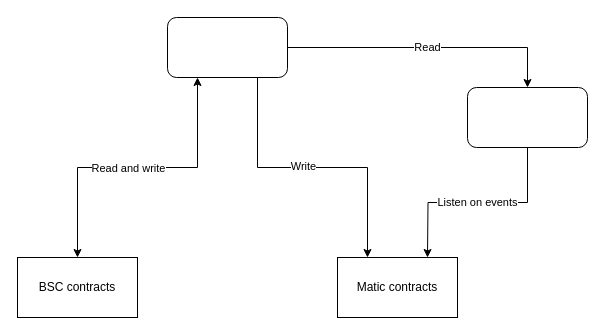
Some shapes in this 605 by 335 pixel diagram are drawn without their labels. The shapes that lost their labels are listed below. From the top down, each one's box as (x1, y1, x2, y2) in pixels, then its label:
(166, 16, 288, 78): Dex front end
(466, 86, 588, 148): Subgraph
